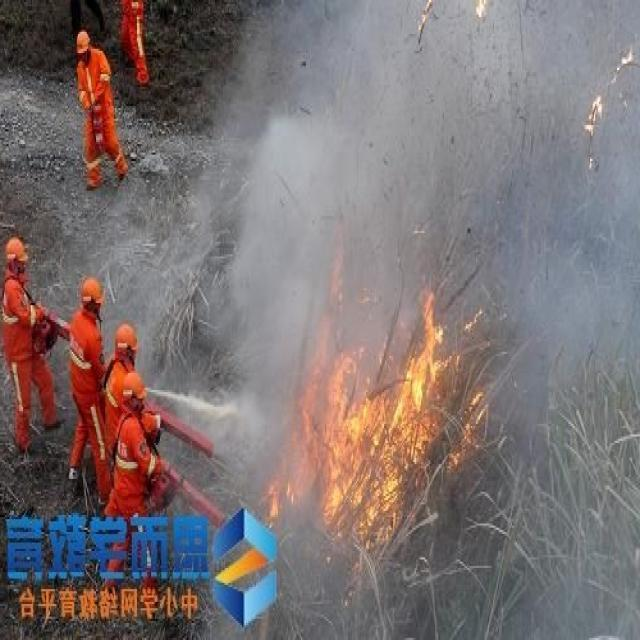fire: (285, 293, 491, 558)
